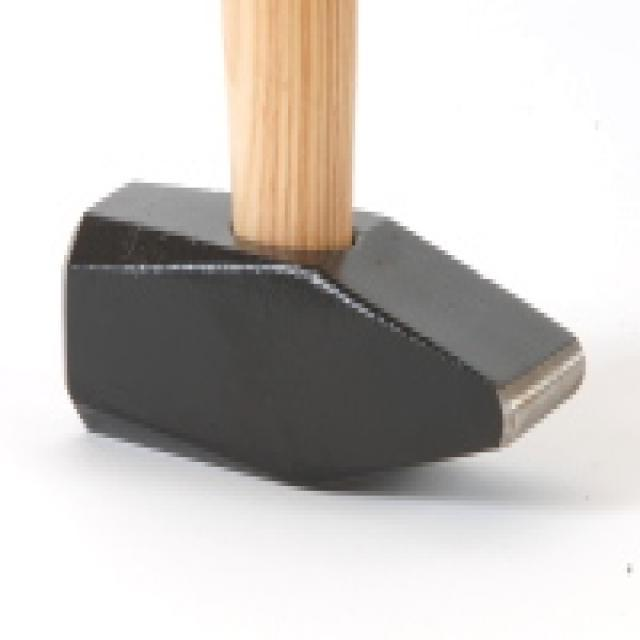hammer: (55, 0, 592, 495)
